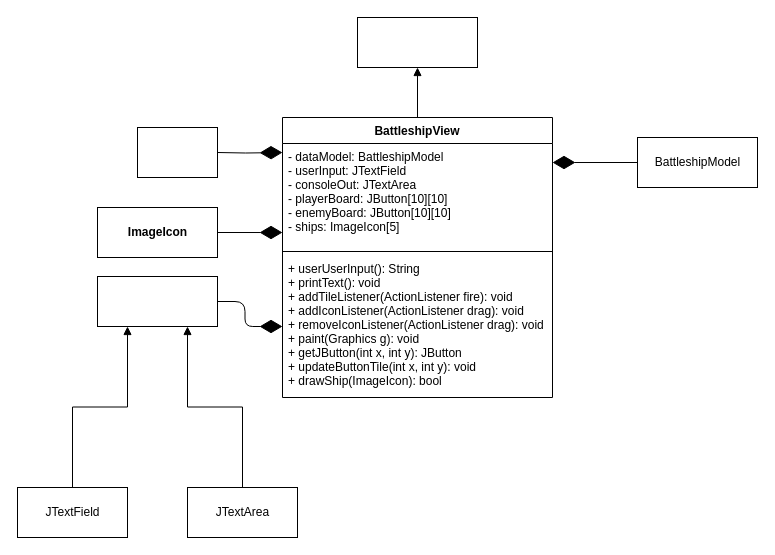
Image size: 775x555. Some labels were removed from this diagram. The box of each missing label's shape, as (x1, y1, x2, y2) in pixels:
JButton: (136, 126, 218, 178)
JFrame: (356, 16, 478, 68)
JTextComponent: (96, 276, 218, 326)
